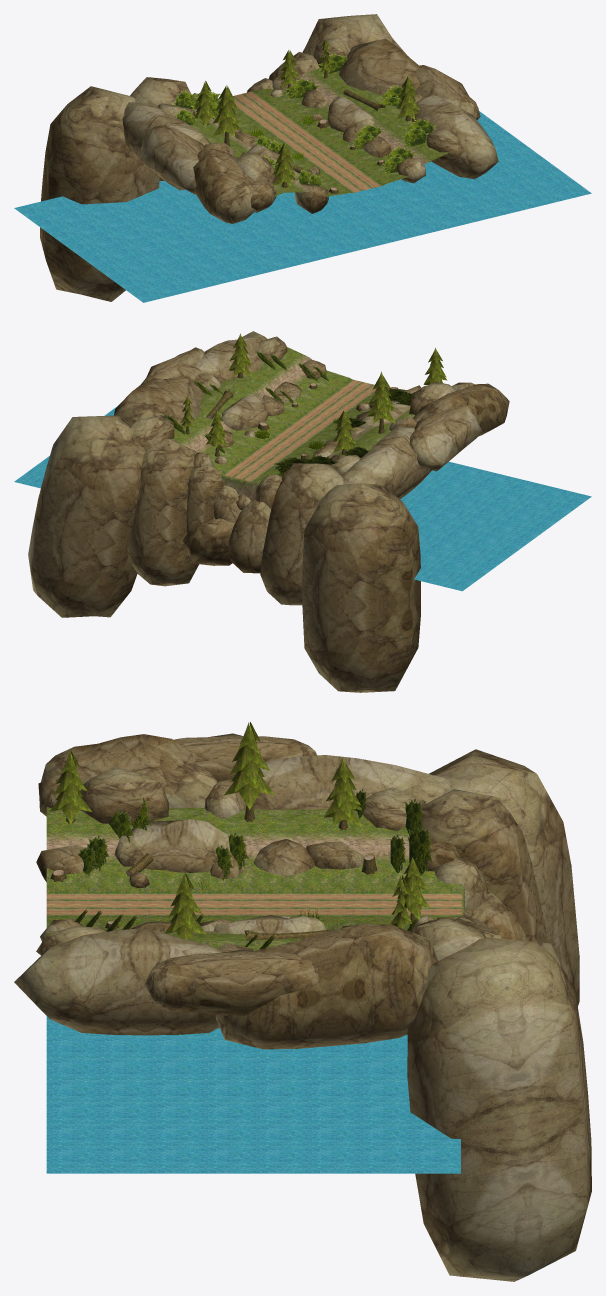
File: BikeRoad02.FBX
The picture shows the model from 3 angles, top to bottom: view 1: azimuth 30°, elevation 25°; view 2: azimuth 150°, elevation 25°; view 3: azimuth 270°, elevation 25°; orthographic projection. The views are drawn at different scales.
Parts seen in each view (by area): view 1: Rock (×19), Wave, Ground, Tree (×5), GrassPlane; view 2: Rock (×20), Wave, Ground, Tree (×5); view 3: Rock (×21), Wave, Ground, Tree (×5), GrassPlane.
Boxes of the visible parts, x1=… form: Rock (×19): x1=40, y1=14, x2=498, y2=301; Wave: x1=14, y1=111, x2=591, y2=302; Ground: x1=190, y1=67, x2=449, y2=216; Tree (×5): x1=193, y1=50, x2=419, y2=187; GrassPlane: x1=285, y1=78, x2=319, y2=98; Rock (×20): x1=28, y1=331, x2=509, y2=692; Wave: x1=14, y1=406, x2=591, y2=591; Ground: x1=172, y1=347, x2=425, y2=500; Tree (×5): x1=206, y1=333, x2=447, y2=456; Rock (×21): x1=14, y1=733, x2=591, y2=1281; Wave: x1=46, y1=1016, x2=460, y2=1173; Ground: x1=46, y1=807, x2=464, y2=950; Tree (×5): x1=49, y1=722, x2=430, y2=939; GrassPlane: x1=407, y1=824, x2=431, y2=875.
Size of the model in its own units: 8000 by 4270 by 5578.
